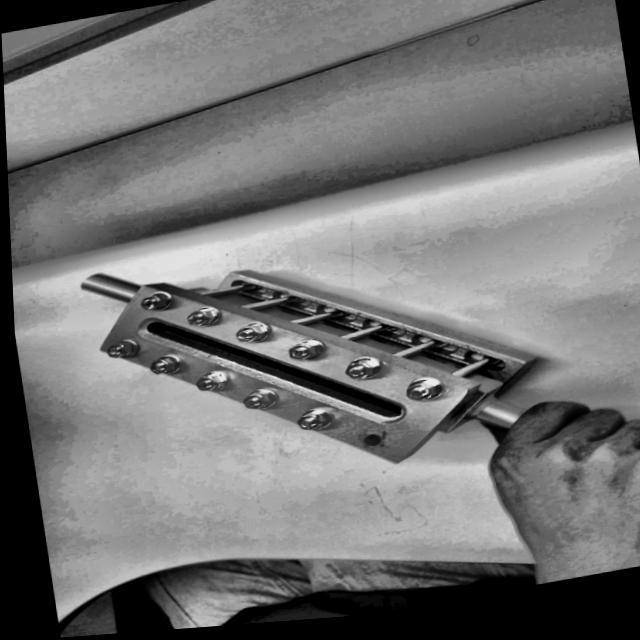ShuiWeiQi_11: (19, 192, 520, 537)
